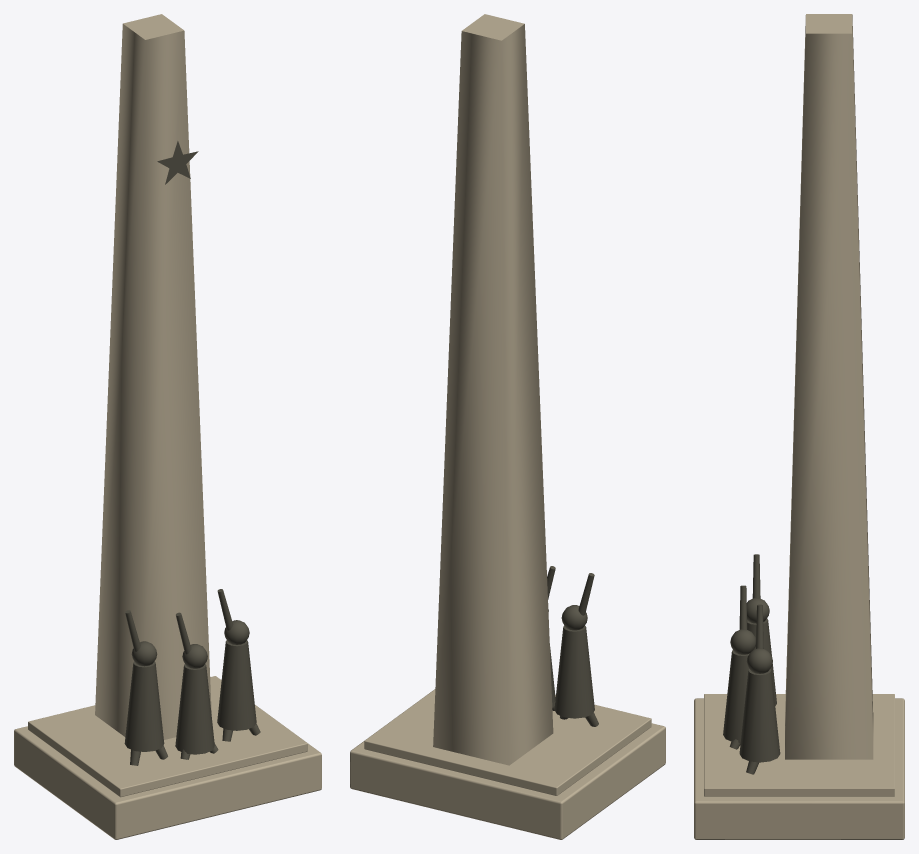
File: monument-6c5f29820b71.glb
3 views of the same model, side by side, from view 1: azimuth 30°, elevation 25°; view 2: azimuth 150°, elevation 25°; view 3: azimuth 270°, elevation 25° (orthographic). The views are drawn at different scales.
Parts seen in each view (by area): view 1: Warm limestone, Patinated bronze; view 2: Warm limestone, Patinated bronze; view 3: Warm limestone, Patinated bronze.
Boxes of the visible parts, x1=… form: Warm limestone: x1=14, y1=14, x2=321, y2=839; Patinated bronze: x1=124, y1=141, x2=260, y2=765; Warm limestone: x1=350, y1=14, x2=665, y2=839; Patinated bronze: x1=547, y1=566, x2=598, y2=726; Warm limestone: x1=694, y1=14, x2=904, y2=839; Patinated bronze: x1=723, y1=554, x2=780, y2=774.
Size of the model in its own units: 7.5 by 25.6 by 6.4.
